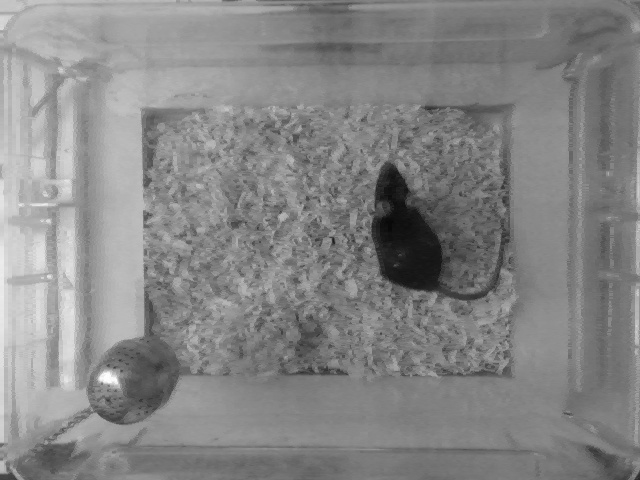mice: (371, 159, 508, 307)
